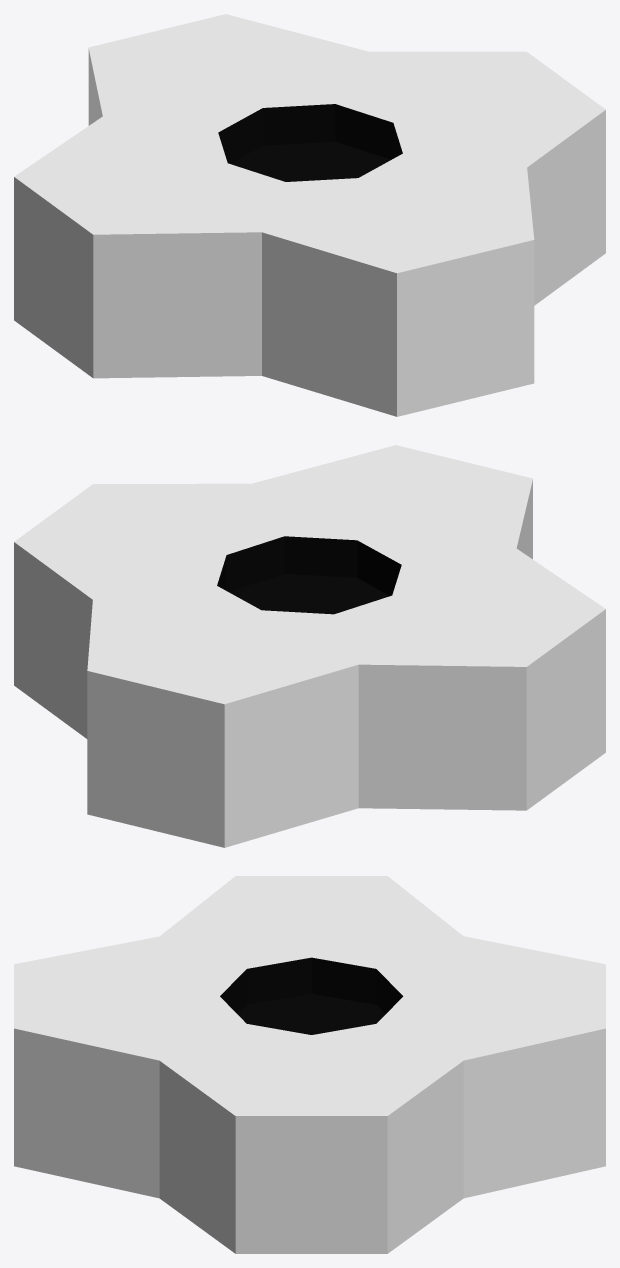
Rendered from seT.fbx.
3 views of the same model, one above another, from view 1: azimuth 30°, elevation 25°; view 2: azimuth 150°, elevation 25°; view 3: azimuth 270°, elevation 25° (orthographic). The views are drawn at different scales.
Visible parts, largest first — view 1: Cube; view 2: Cube; view 3: Cube.
Boxes of the visible parts, box(x1,y1,x2,y2) form: Cube: box(14, 14, 605, 416); Cube: box(14, 445, 605, 847); Cube: box(14, 876, 605, 1253).
Bounding box in the file's own units: 3.74 × 1 × 3.89.
